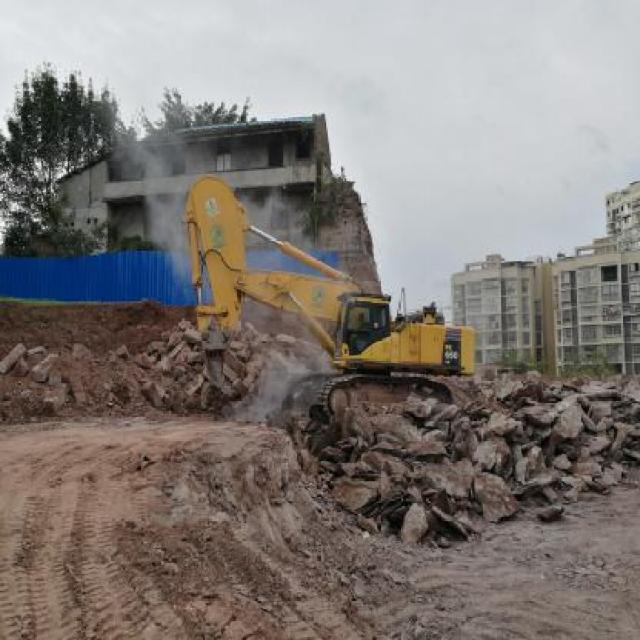Excavator: (181, 172, 487, 416)
